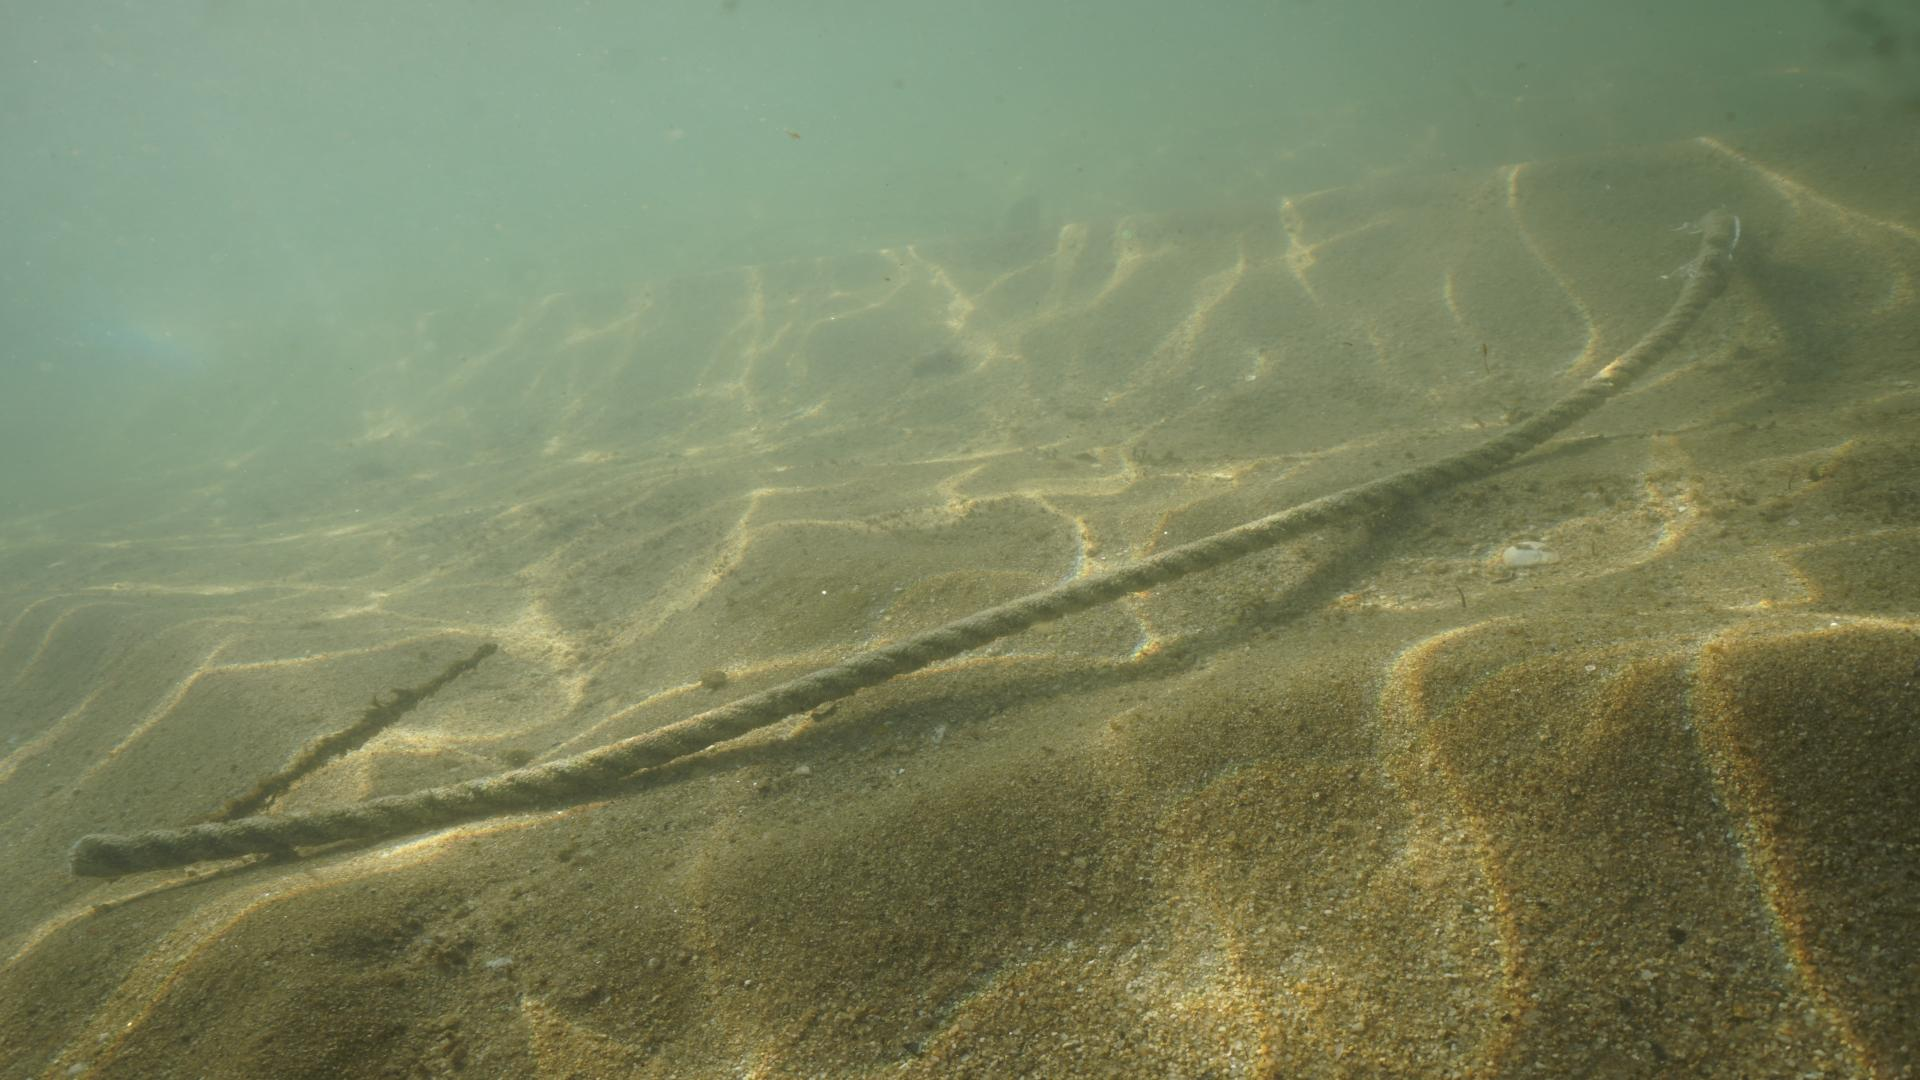rope: (69, 215, 1729, 886)
